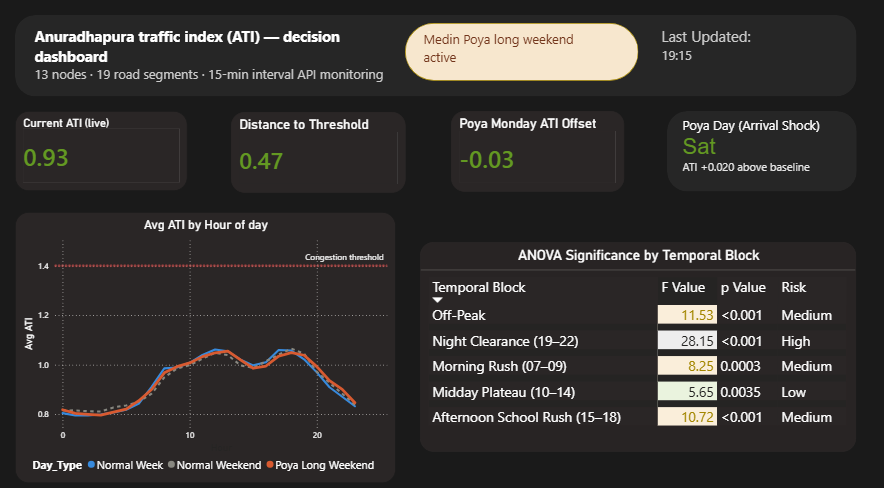

The dashboard page shown, as its layout file describes it:
{"tool":"powerbi","page":{"name":"Page 1_ Live Monitor","canvas":[1280,720],"ordinal":0},"visuals":[{"type":"cardVisual","title":"Current ATI (live)","fields":{"Data":["CombinedData (2).Avg ATI"]},"box":[21.8,162.9,250.3,115.9],"z":0},{"type":"cardVisual","title":"Distance to Threshold ","fields":{"Data":["CombinedData (2).Headroom"]},"box":[334.1,164.2,253.4,116.6],"z":1000},{"type":"cardVisual","title":"Poya Monday ATI Offset","fields":{"Data":["CombinedData (2).Poya Mon Offset"]},"box":[653.8,162.7,250.6,116.6],"z":2000},{"type":"lineChart","title":"Avg ATI by Hour of day","fields":{"Series":["CombinedData (2).Day_Type"],"Category":["CombinedData (2).Hour"],"Y":["CombinedData (2).Avg ATI"]},"box":[21.6,308.2,551.5,393.1],"z":3000},{"type":"tableEx","title":"ANOVA Significance by Temporal Block","fields":{"Values":["ANOVA_Results.Temporal Block","ANOVA_Results.F Value","ANOVA_Results.p Value","ANOVA_Results.Risk"]},"box":[609.1,352.8,632.2,303.8],"z":4000},{"type":"shape","box":[21.6,23,1219.7,118.1],"z":5000},{"type":"textbox","box":[44.6,34.6,622.1,93.6],"z":6000},{"type":"shape","box":[587.5,34.6,338.4,83.5],"z":7000},{"type":"textbox","box":[609.1,40.3,338.4,72],"z":8000},{"type":"textbox","box":[953.3,34.6,288,72],"z":9000},{"type":"shape","box":[966.2,162.7,275,116.6],"z":10000},{"type":"textbox","box":[983.5,165.6,226.1,115.2],"z":11000}]}

Visuals, with their boxes in screenshot pixels (x1, y1, x2, y2), scaled from the page's 1280x720 canvas onto the 884x488 screenshot:
"Current ATI (live)" cardVisual: (left=15, top=110, right=188, bottom=189)
"Distance to Threshold " cardVisual: (left=231, top=111, right=406, bottom=190)
"Poya Monday ATI Offset" cardVisual: (left=452, top=110, right=625, bottom=189)
"Avg ATI by Hour of day" lineChart: (left=15, top=209, right=396, bottom=475)
"ANOVA Significance by Temporal Block" tableEx: (left=421, top=239, right=857, bottom=445)
shape: (left=15, top=16, right=857, bottom=96)
textbox: (left=31, top=23, right=460, bottom=87)
shape: (left=406, top=23, right=639, bottom=80)
textbox: (left=421, top=27, right=654, bottom=76)
textbox: (left=658, top=23, right=857, bottom=72)
shape: (left=667, top=110, right=857, bottom=189)
textbox: (left=679, top=112, right=835, bottom=190)
